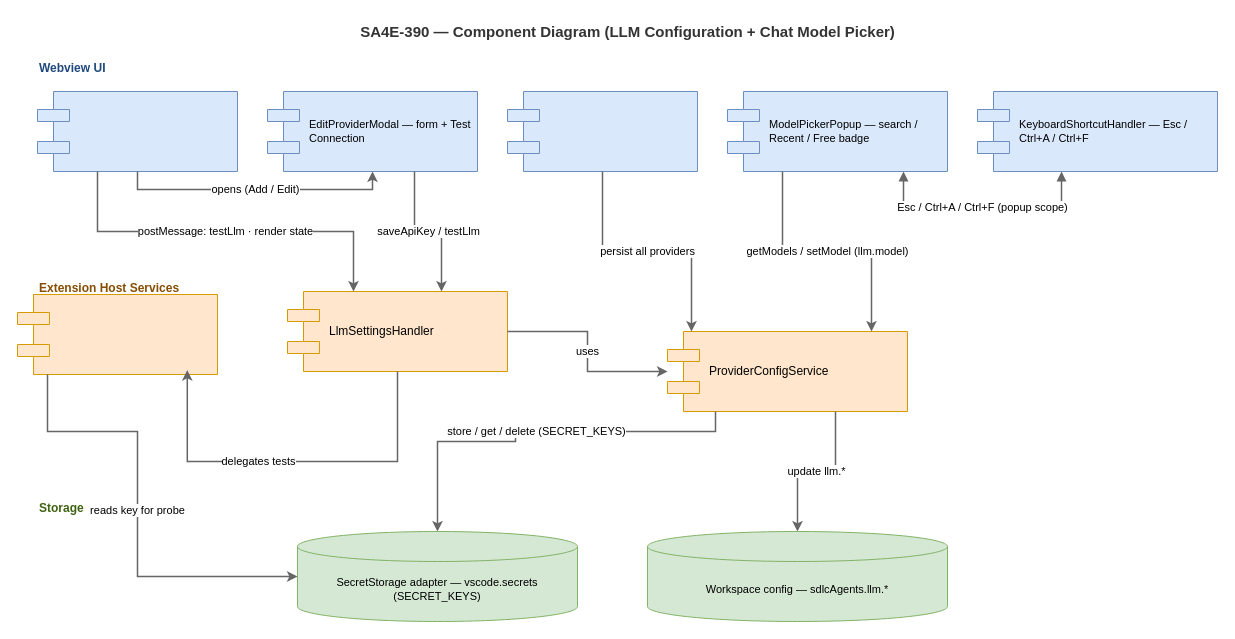
This 1235x639 diagram has some shape labels left out. Here are the shapes that lost their labels. From the top down, the centre of each, then its label:
At point (137, 131): "ProviderTable (webview) — rows, badges, actions".
At point (602, 131): "SaveAllController — persist all".
At point (117, 334): "LlmTestService".
